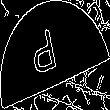P_S: (38, 25, 72, 85)
